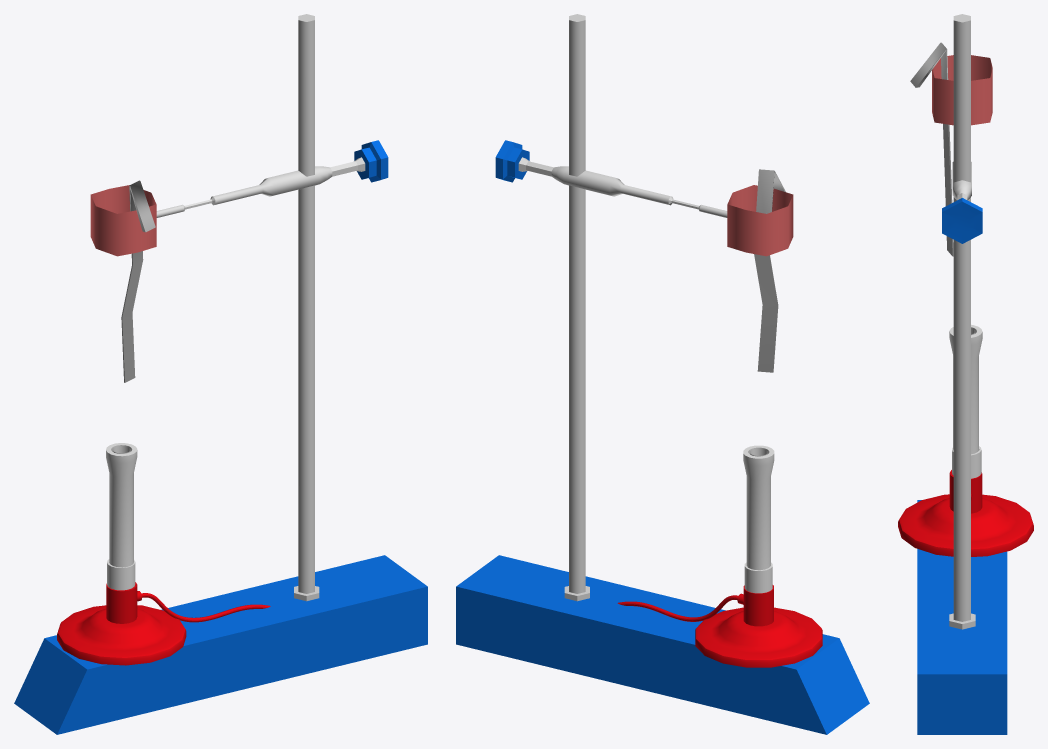
Rendered from burning megnishiam.fbx.
3 views of the same model, side by side, from view 1: azimuth 30°, elevation 25°; view 2: azimuth 150°, elevation 25°; view 3: azimuth 270°, elevation 25° (orthographic). The views are drawn at different scales.
Visible parts, largest first — view 1: pCube1, bunsun burner, pCylinder1, polySurface2, pCylinder2, pPlane1; view 2: pCube1, bunsun burner, pCylinder1, polySurface2, pCylinder2, pPlane1; view 3: pCube1, pCylinder1, bunsun burner, polySurface2, pCylinder2, pPlane1.
Part boxes in pixels (<box>): pCube1: <box>14,555,427,734</box>; bunsun burner: <box>57,443,270,665</box>; pCylinder1: <box>294,14,319,601</box>; polySurface2: <box>90,185,156,256</box>; pCylinder2: <box>156,140,388,217</box>; pPlane1: <box>121,180,155,382</box>; pCube1: <box>456,555,869,734</box>; bunsun burner: <box>617,445,822,667</box>; pCylinder1: <box>564,14,589,601</box>; polySurface2: <box>727,185,793,256</box>; pCylinder2: <box>495,140,727,217</box>; pPlane1: <box>754,169,785,372</box>; pCube1: <box>917,500,1007,734</box>; pCylinder1: <box>949,14,975,629</box>; bunsun burner: <box>898,324,1033,556</box>; polySurface2: <box>932,55,992,125</box>; pCylinder2: <box>942,161,982,243</box>; pPlane1: <box>910,42,953,256</box>.
Size of the model in its own units: 105 by 172 by 31.84.
